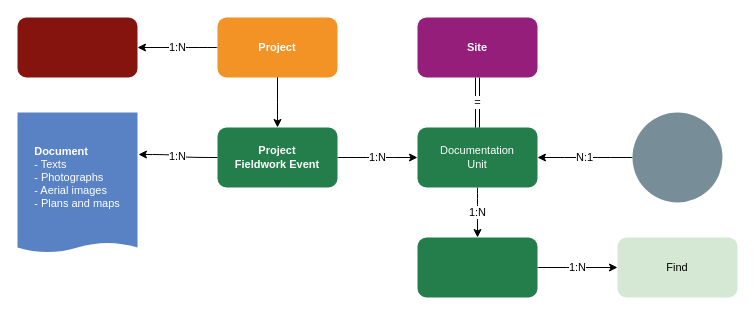
This 754x314 diagram has some shape labels left out. The shapes that lost their labels are listed below. From the top down, each one's centre as x and y in pixels, then its label:
[77,47]: Individual Find (AMCR-PAS)
[677,157]: Spatial Unit (PIAN)
[477,267]: Component
